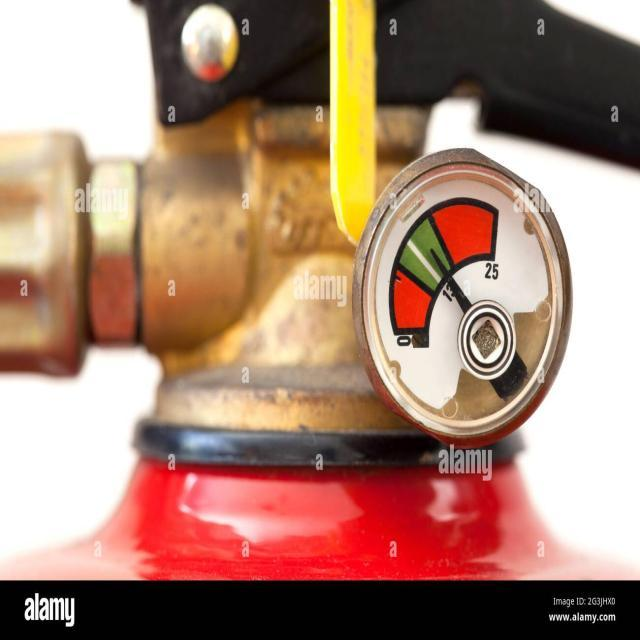pressure gauge: (353, 149, 571, 445)
